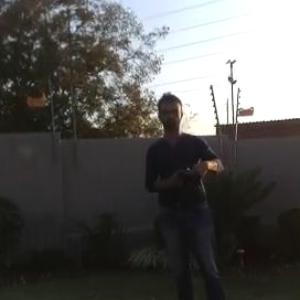follow: (138, 84, 233, 299)
